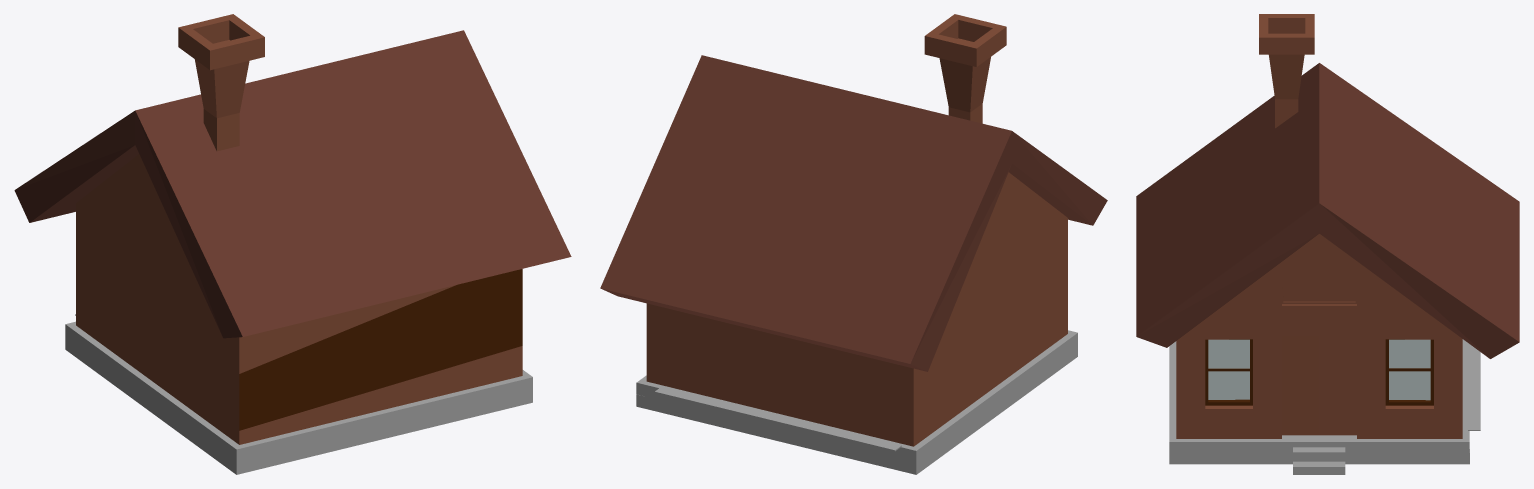
The model's file is Home.fbx.
The picture shows the model from 3 angles, left to right: view 1: azimuth 30°, elevation 25°; view 2: azimuth 150°, elevation 25°; view 3: azimuth 270°, elevation 25°; orthographic projection. The views are drawn at different scales.
Parts seen in each view (by area): view 1: House_For_3D_Project_Game:pCube7; view 2: House_For_3D_Project_Game:pCube7; view 3: House_For_3D_Project_Game:pCube7.
Part boxes in pixels (x1=…): House_For_3D_Project_Game:pCube7: x1=14, y1=14, x2=571, y2=474; House_For_3D_Project_Game:pCube7: x1=600, y1=14, x2=1107, y2=474; House_For_3D_Project_Game:pCube7: x1=1136, y1=14, x2=1519, y2=474.
Bounding box in the file's own units: 2.91 × 3.06 × 3.19.
